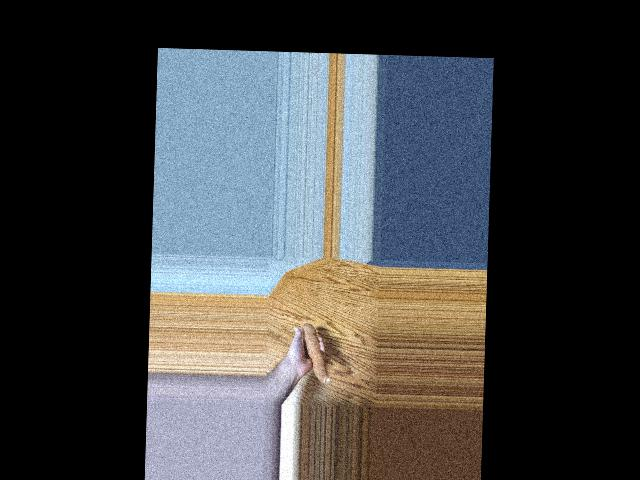sweet_potato: (300, 322, 331, 385)
